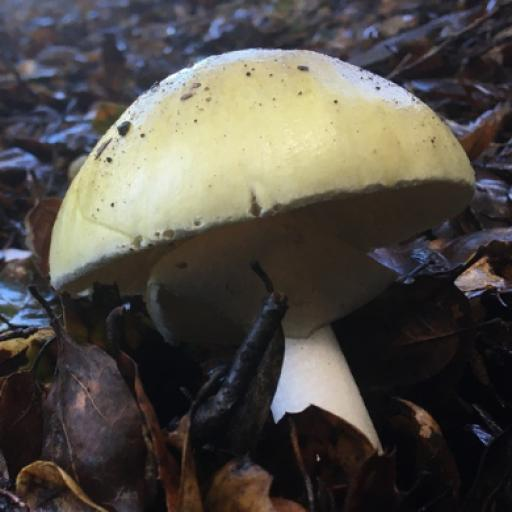mushroom: (42, 0, 495, 406)
